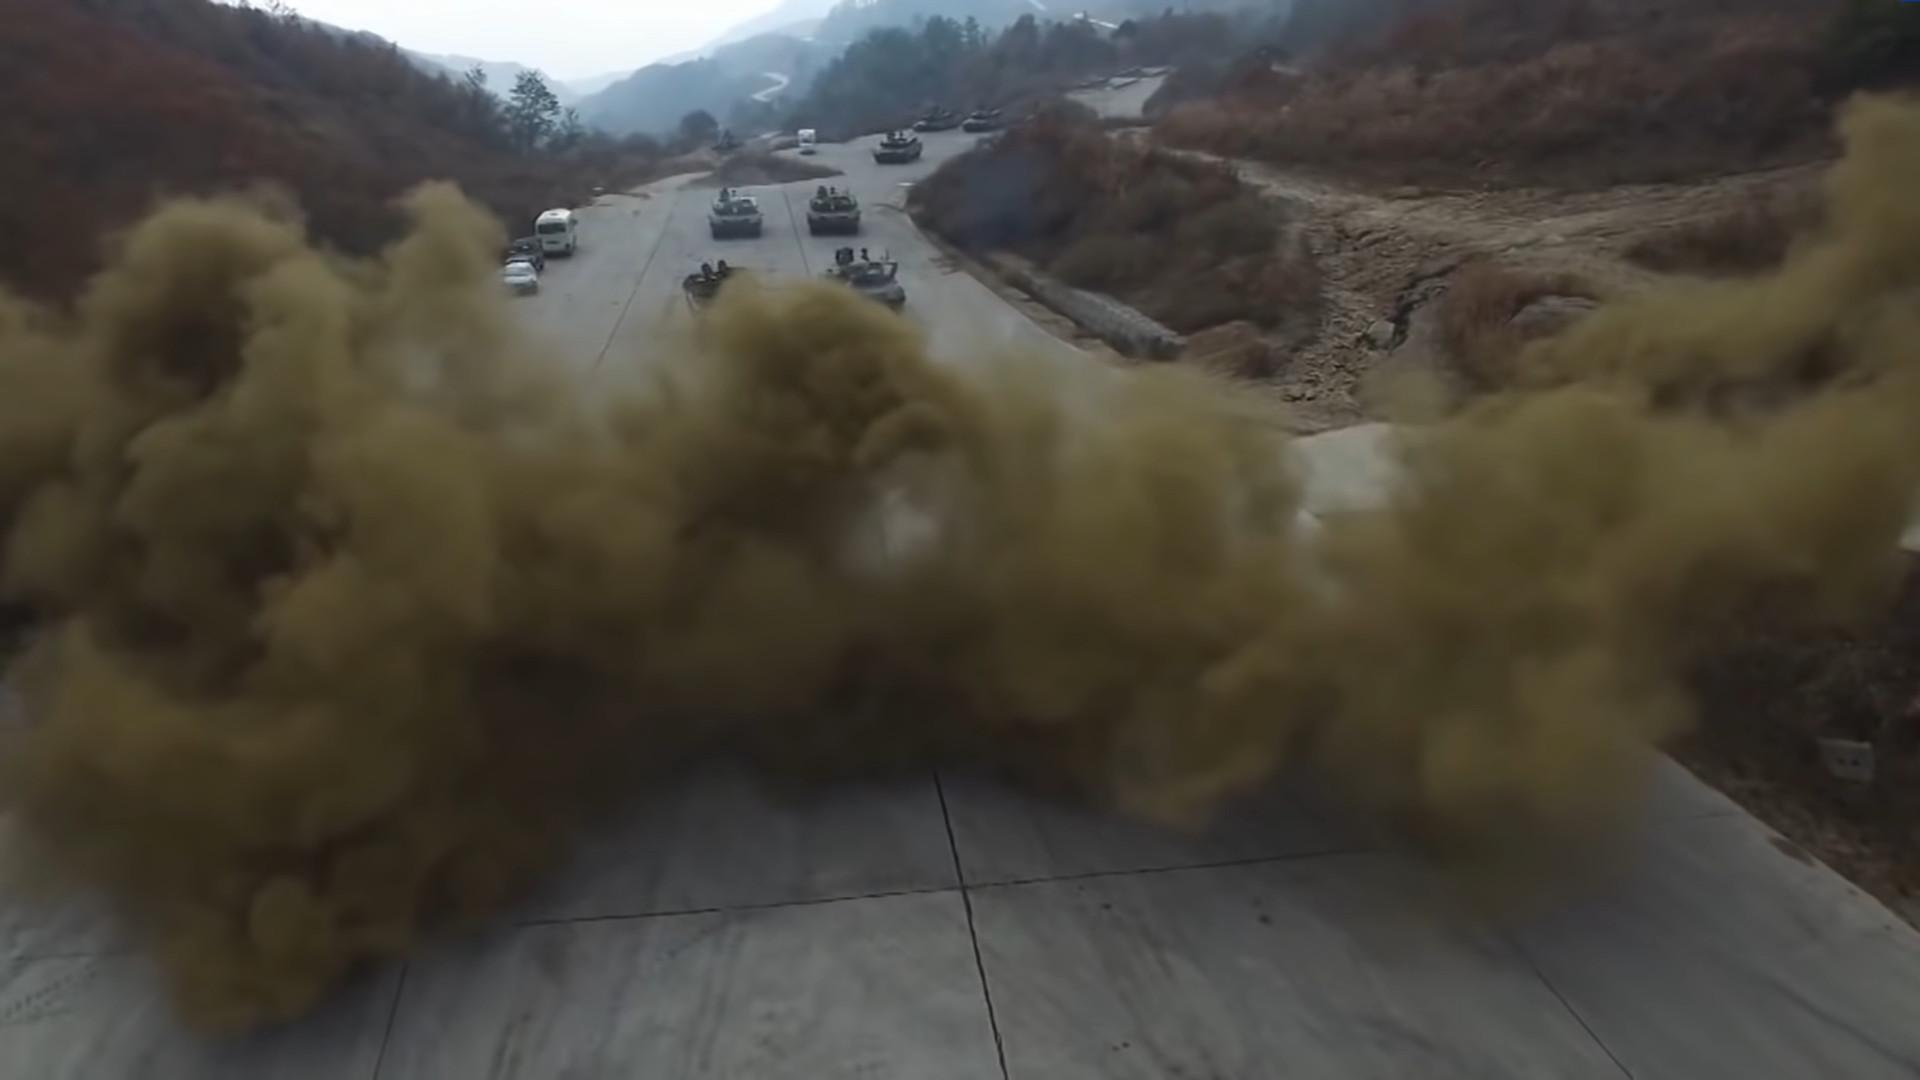tank: (805, 184, 862, 235), (707, 186, 762, 237)
